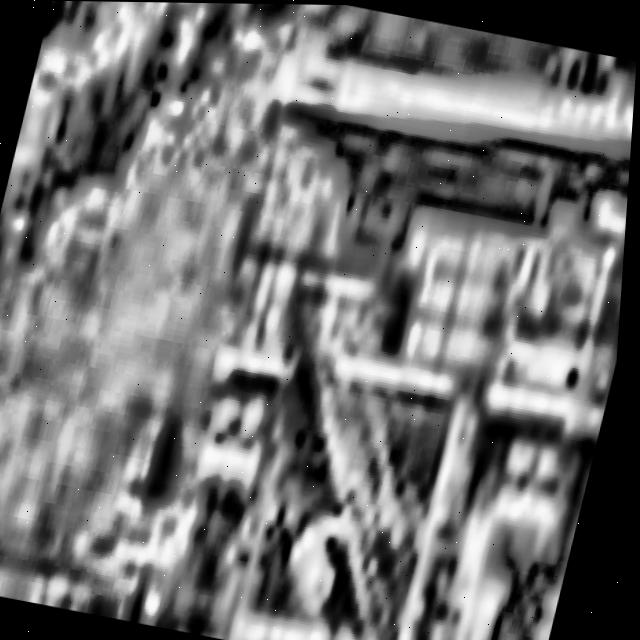dump_truck: (146, 2, 640, 640)
